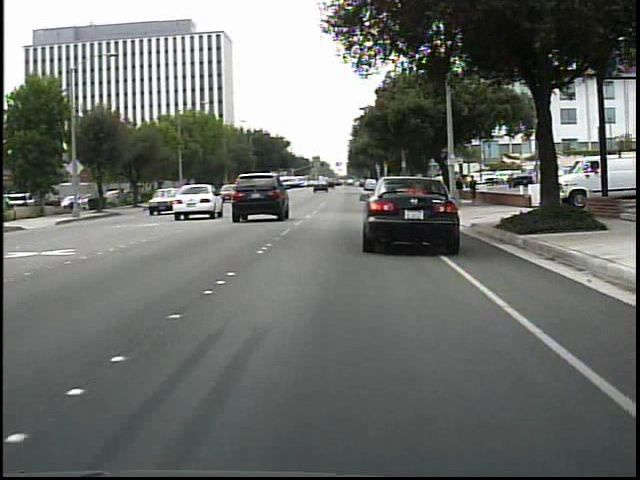person: (467, 174, 479, 204), (455, 176, 465, 204)
